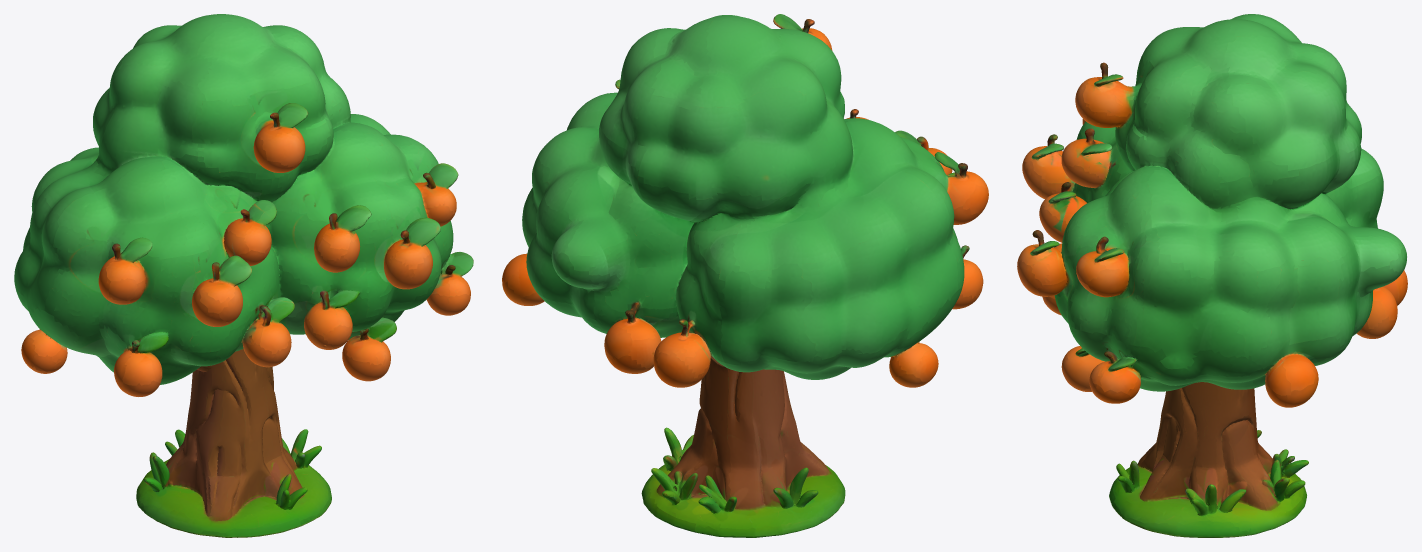
Rendered from nat_tree_fruit.glb.
3 views of the same model, side by side, from view 1: azimuth 30°, elevation 25°; view 2: azimuth 150°, elevation 25°; view 3: azimuth 270°, elevation 25° (orthographic). The views are drawn at different scales.
Visible parts, largest first — view 1: geometry_0; view 2: geometry_0; view 3: geometry_0.
Part boxes in pixels (x1=…): geometry_0: x1=14, y1=14, x2=473, y2=537; geometry_0: x1=502, y1=14, x2=988, y2=537; geometry_0: x1=1017, y1=14, x2=1407, y2=537.
Size of the model in its own units: 0.1939 by 0.22 by 0.1654.
1 material, 1 textured.
